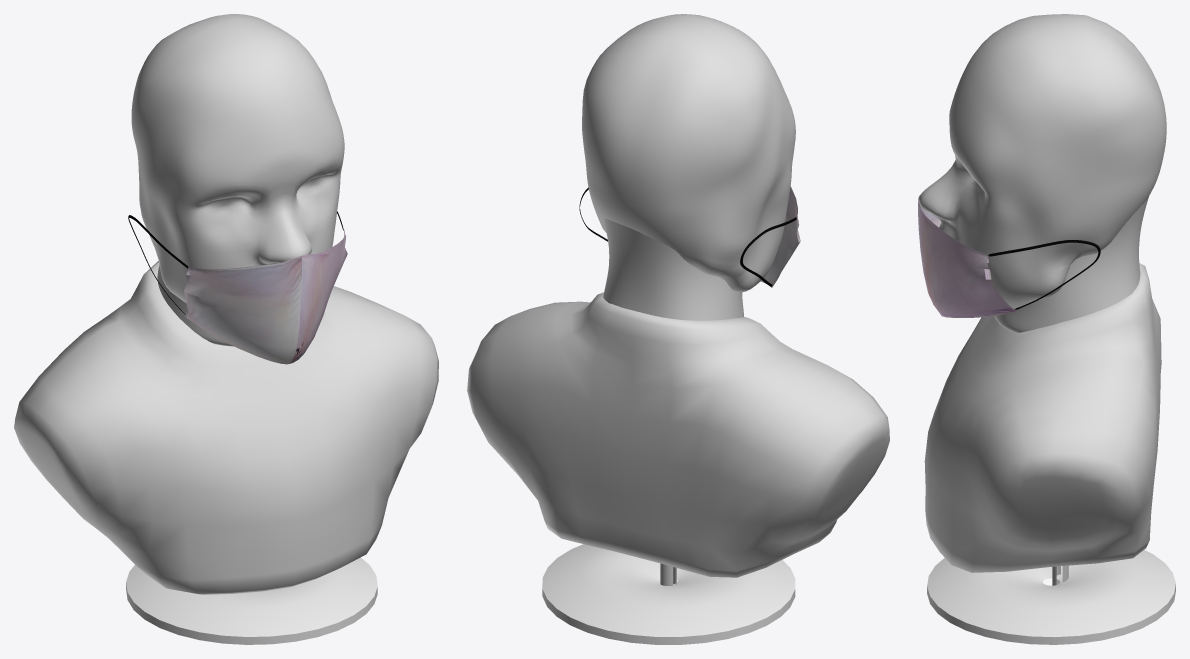
Rendered from FACE MASK.fbx.
3 views of the same model, side by side, from view 1: azimuth 30°, elevation 25°; view 2: azimuth 150°, elevation 25°; view 3: azimuth 270°, elevation 25° (orthographic). The views are drawn at different scales.
Visible parts, largest first — view 1: Circle_032, Mask1; view 2: Circle_032, Mask1; view 3: Circle_032, Mask1, Tali1.
Boxes of the visible parts, bbox=[...] form: Circle_032: bbox=[14, 14, 438, 644]; Mask1: bbox=[184, 229, 347, 364]; Circle_032: bbox=[467, 14, 889, 644]; Mask1: bbox=[761, 186, 800, 287]; Circle_032: bbox=[919, 14, 1175, 644]; Mask1: bbox=[918, 195, 1015, 317]; Tali1: bbox=[988, 240, 1100, 309].
Bounding box in the file's own units: 230 × 333 × 135.
Materials: 5 (2 with a texture image).
